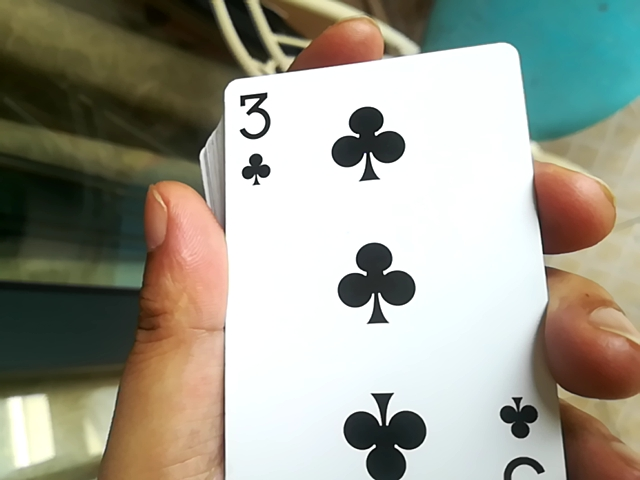mh 3: (217, 47, 550, 474)
